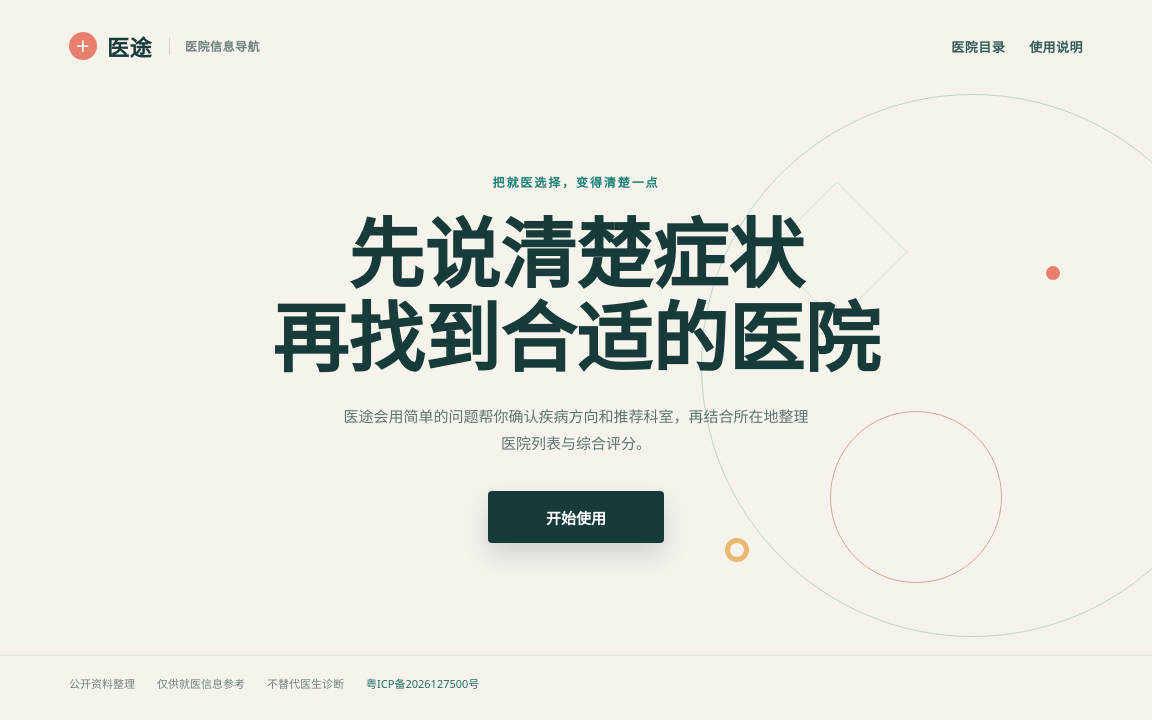
Test: guided medical entry flow › opens the symptom dialog after the start action
The width and height of the screenshot is (1152, 720).
What coordinates should you click on to do the following:
click the button "开始使用"
I would click on:
 (576, 517)
Its box is [488,491,664,543].
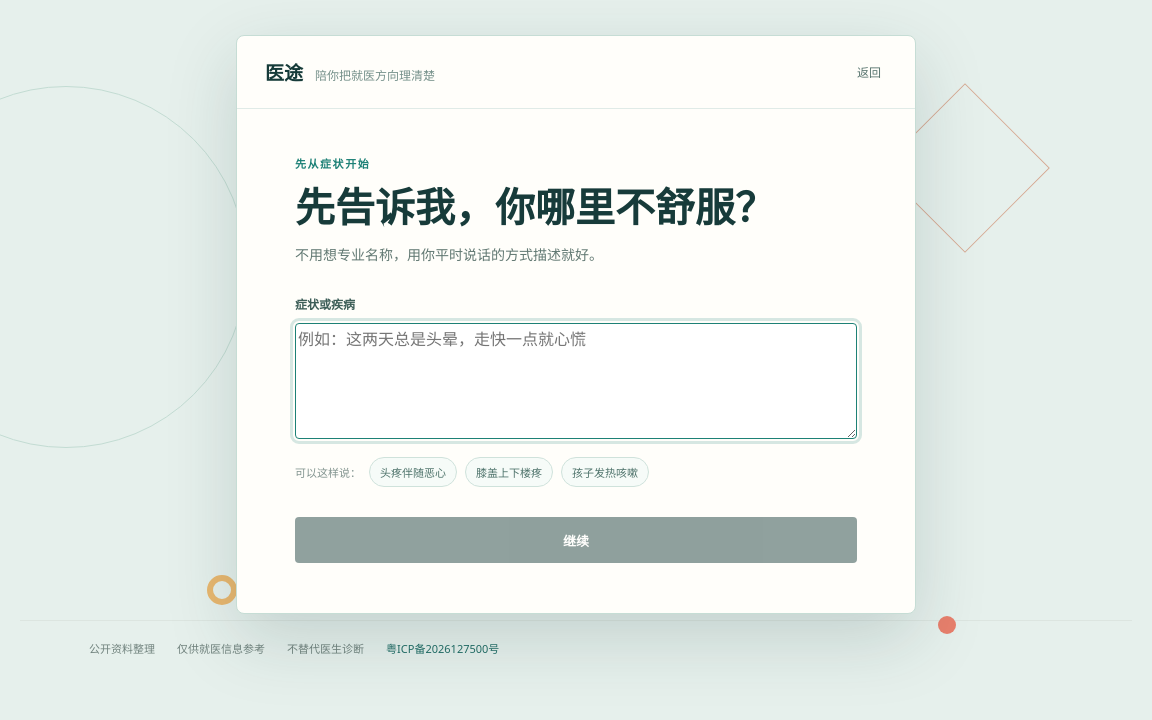
Check: the dialog "先告诉我，你哪里不舒服？" is shown, box [236,35,916,614]
Check: the text box labelled "症状或疾病" is shown, box [295,323,857,439]
